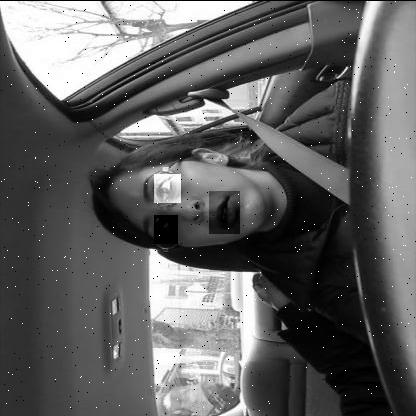seatbelt: (74, 119, 348, 265)
